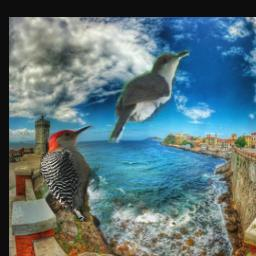Cuckoo: (107, 50, 190, 144)
Woodpecker: (39, 125, 100, 223)
